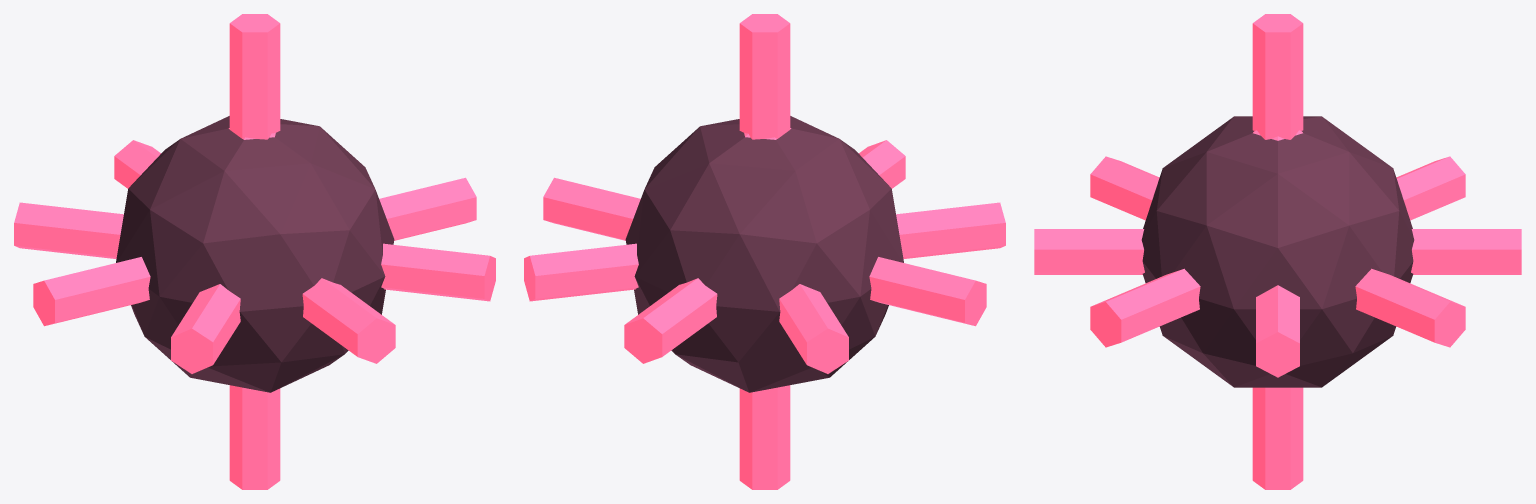
The model's file is space_mine.glb.
3 views of the same model, side by side, from view 1: azimuth 30°, elevation 25°; view 2: azimuth 150°, elevation 25°; view 3: azimuth 270°, elevation 25° (orthographic).
Parts seen in each view (by area): view 1: space_mine; view 2: space_mine; view 3: space_mine.
Part boxes in pixels (x1,y1,x2,y2): space_mine: [14, 14, 495, 489]; space_mine: [524, 14, 1005, 489]; space_mine: [1034, 14, 1521, 489].
Size of the model in its own units: 1.64 by 1.7 by 1.64.
